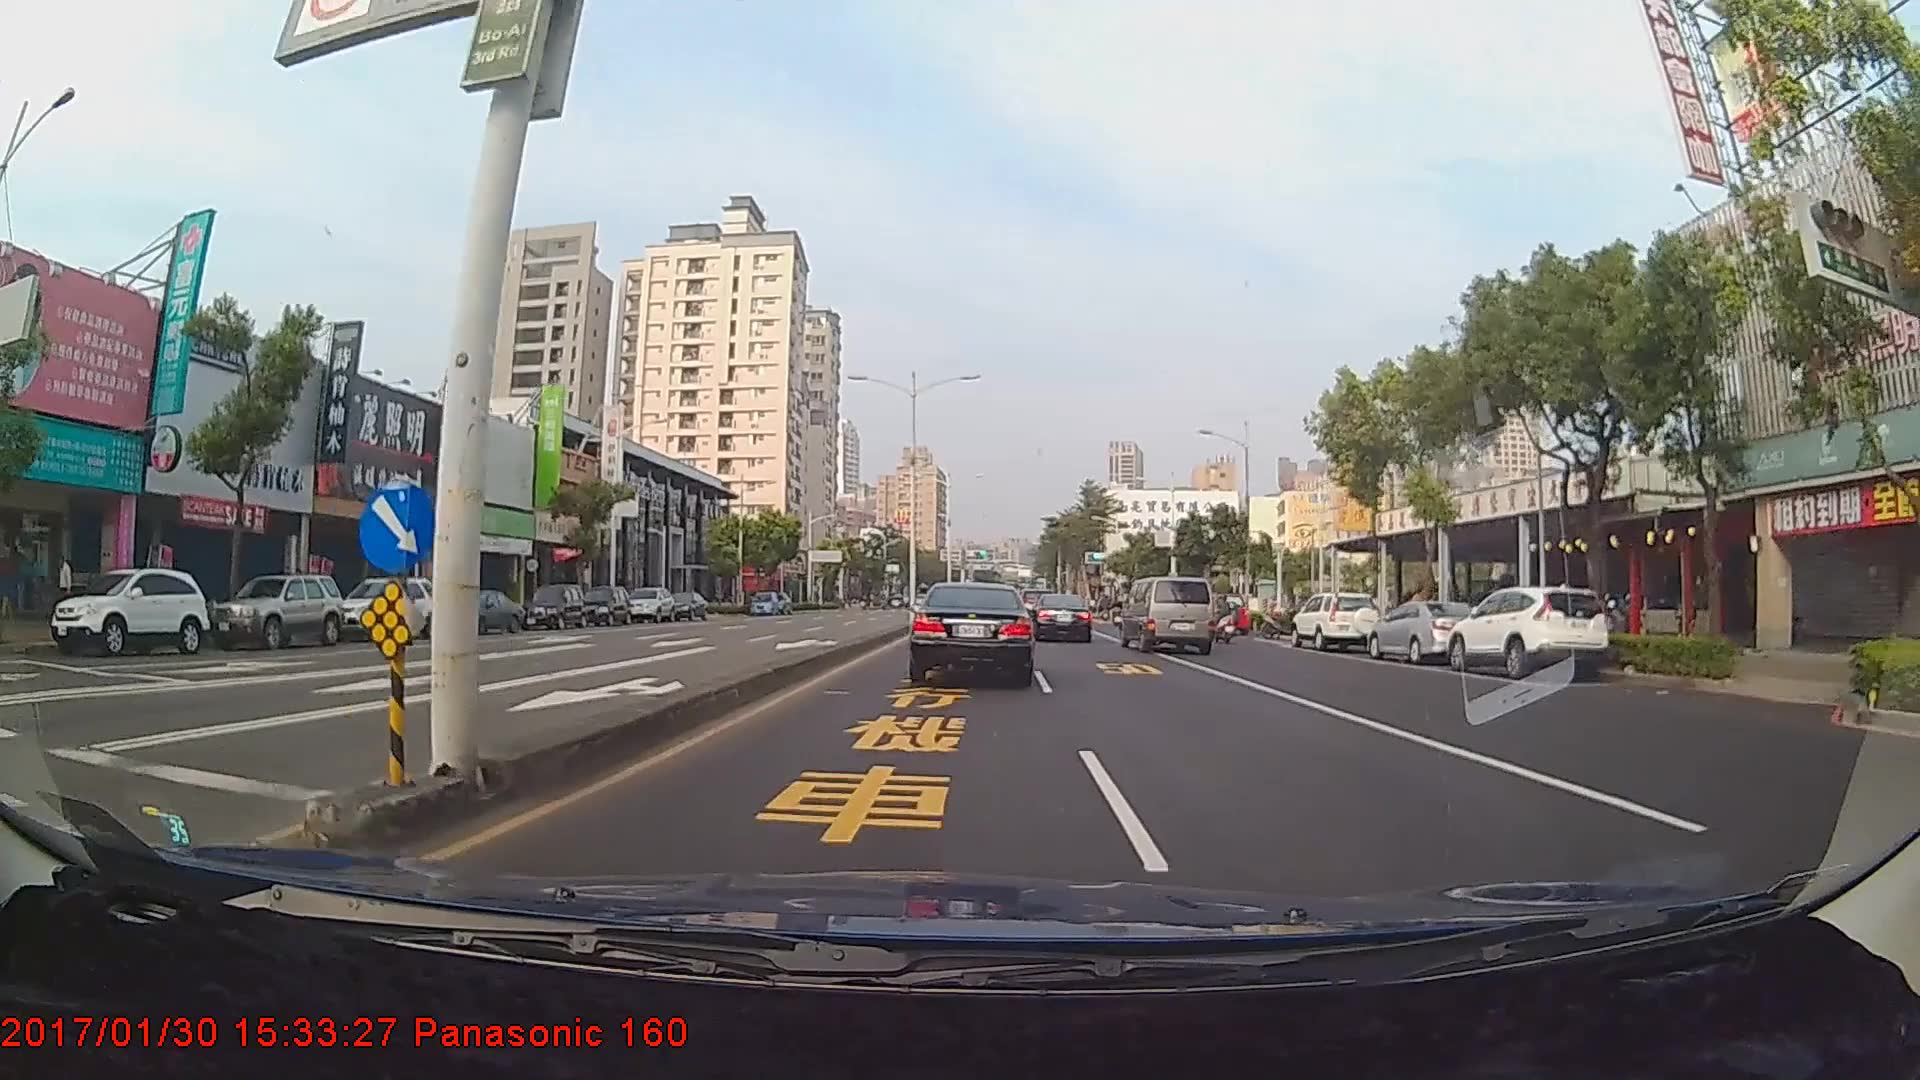pedestrian: (56, 553, 77, 624)
rider: (1211, 591, 1241, 642)
vehicle: (1444, 582, 1611, 680), (47, 566, 208, 653), (909, 579, 1033, 685), (210, 571, 342, 648), (1367, 598, 1491, 662), (1118, 576, 1214, 654), (339, 575, 447, 640), (1289, 593, 1381, 651), (431, 587, 524, 634), (1026, 594, 1094, 644), (520, 581, 589, 630), (624, 582, 677, 622), (581, 585, 632, 626), (662, 586, 708, 617), (747, 584, 777, 610)
